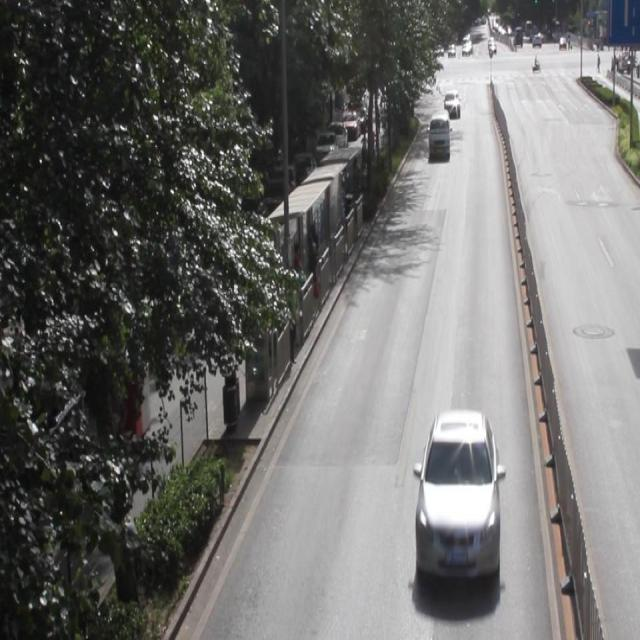car: (413, 408, 497, 578)
truck: (426, 110, 449, 154)
